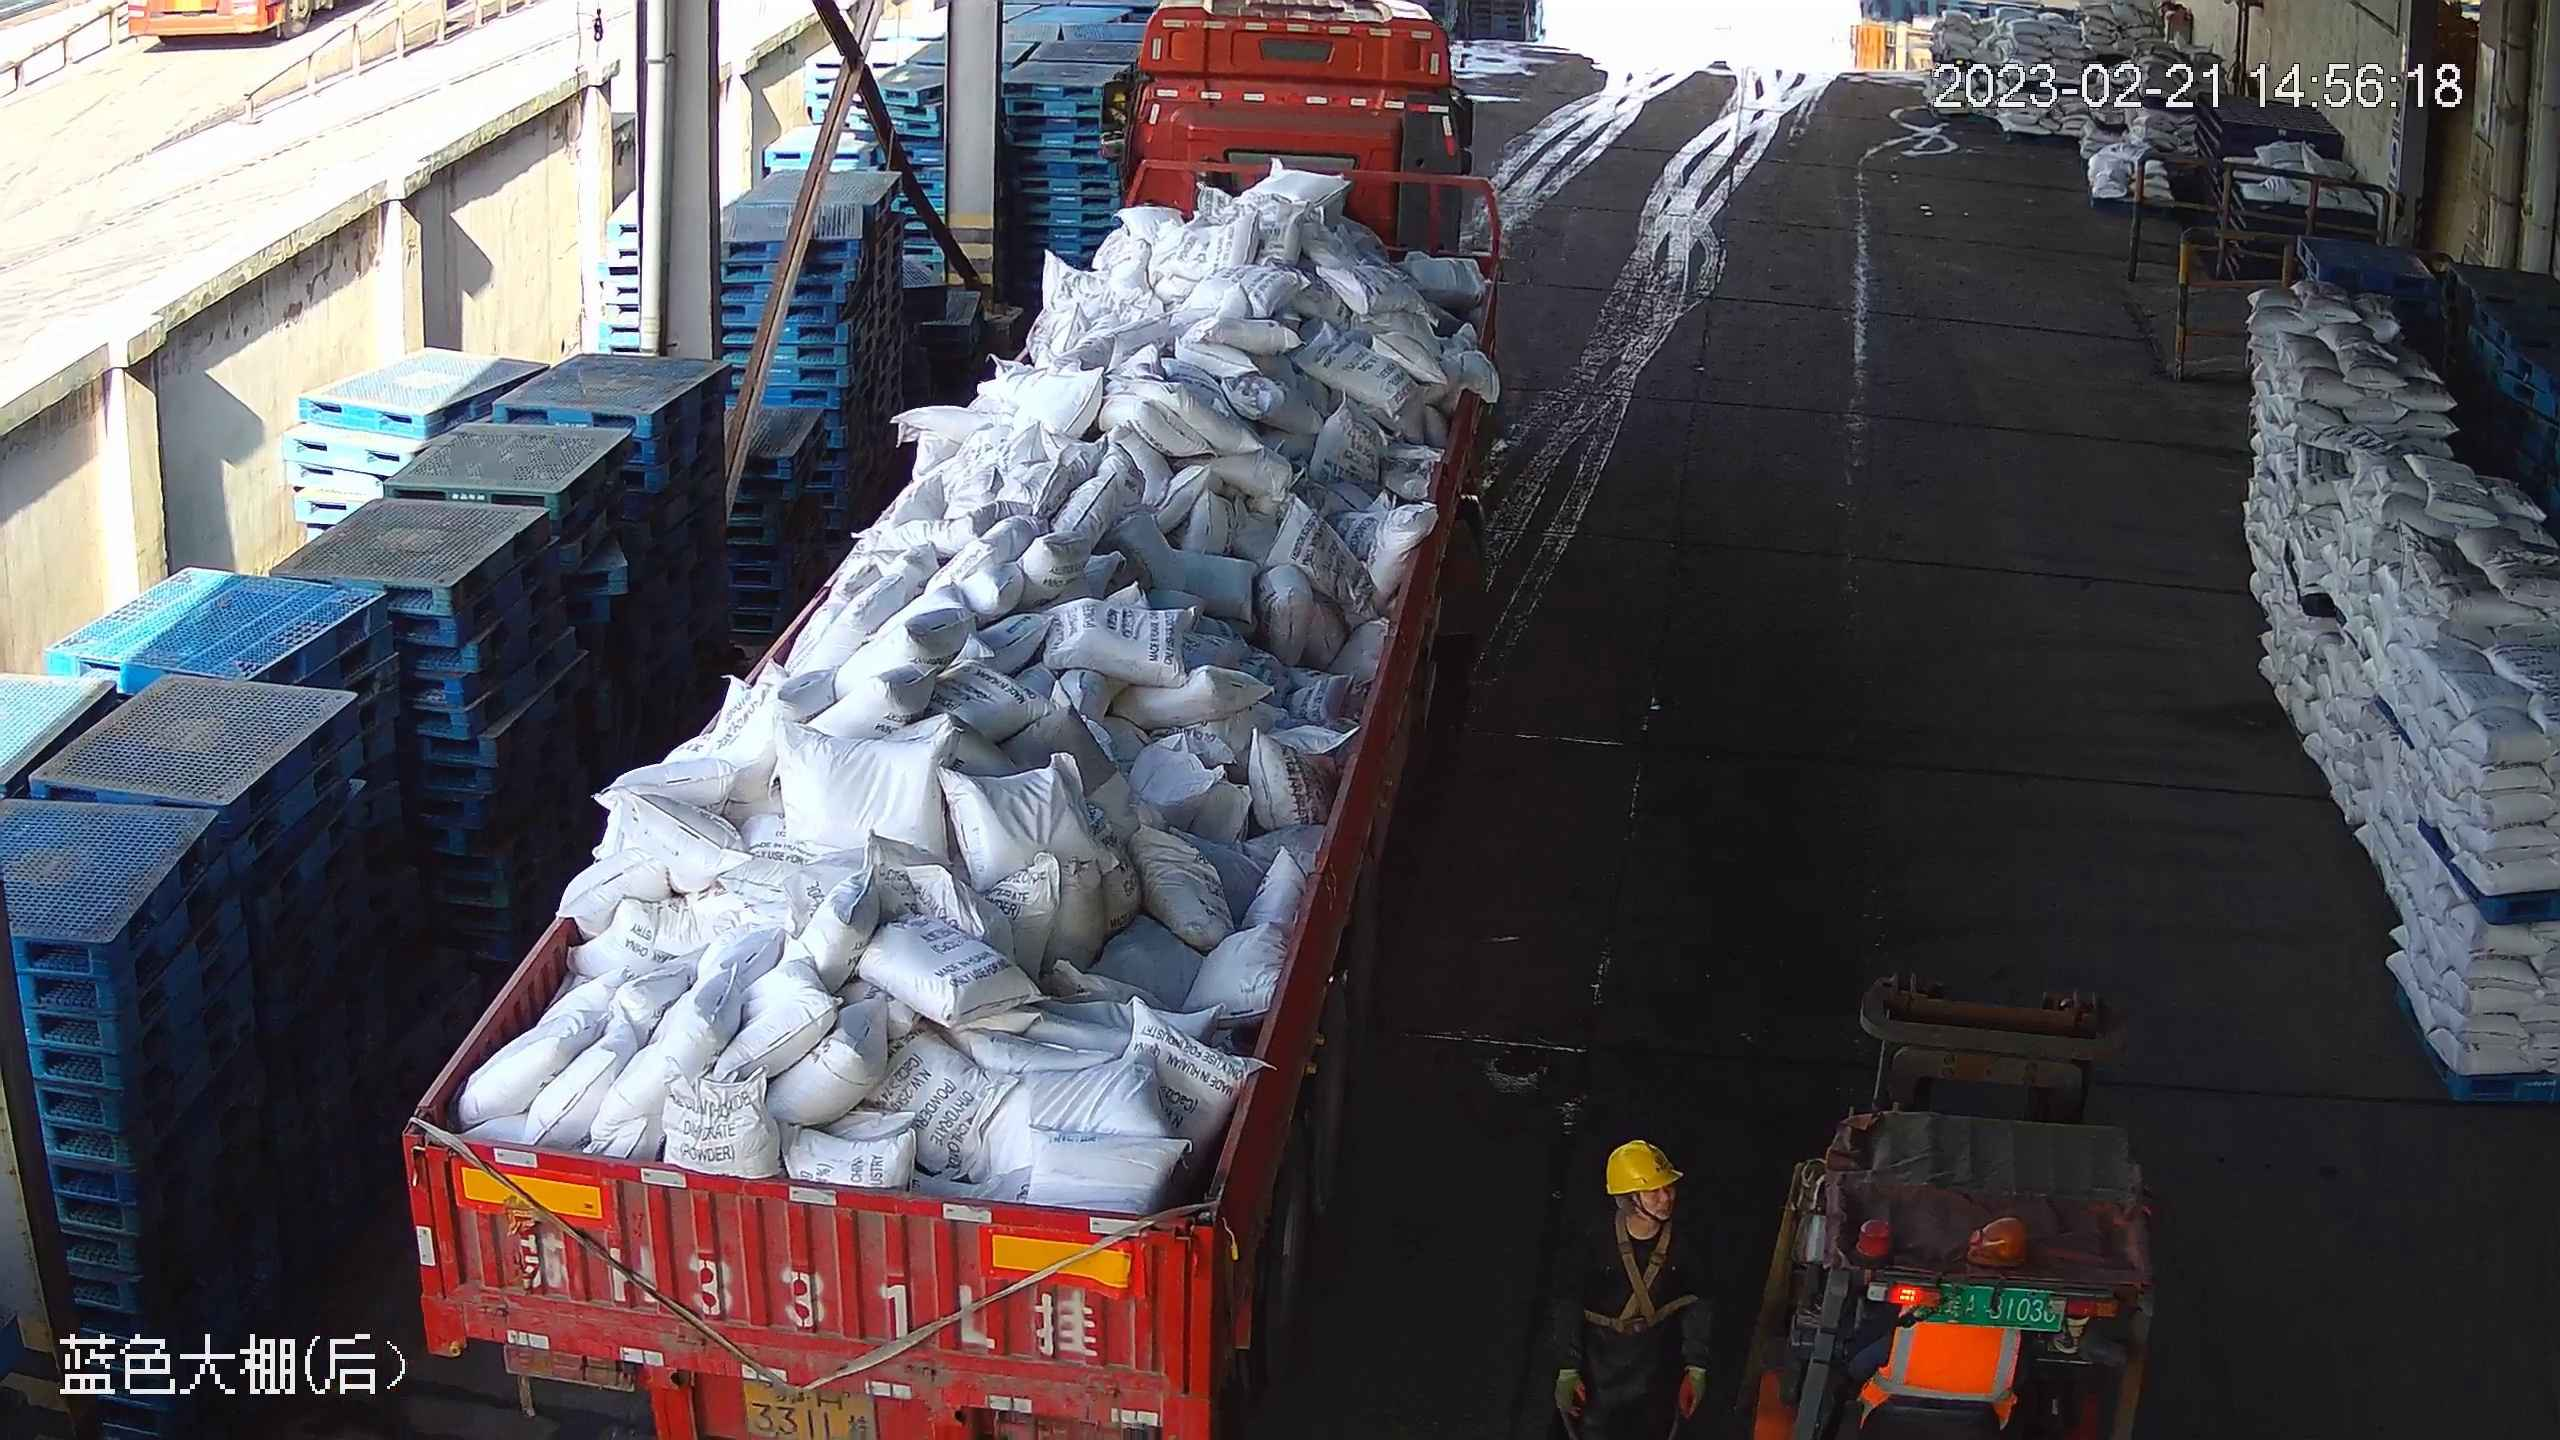belt: (1578, 1208, 1700, 1338)
head: (1548, 1138, 1722, 1271)
helmet: (1600, 1137, 1688, 1198)
people: (1550, 1138, 1719, 1440)
truck: (389, 1, 1509, 1432)
